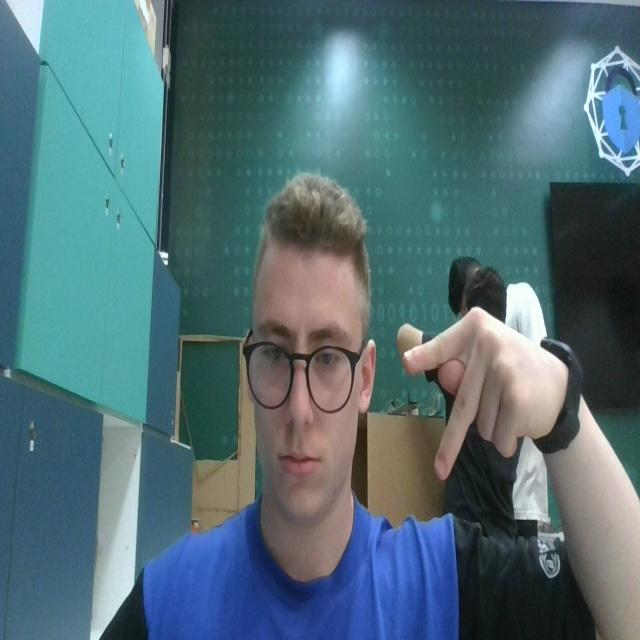P: (398, 304, 545, 489)
